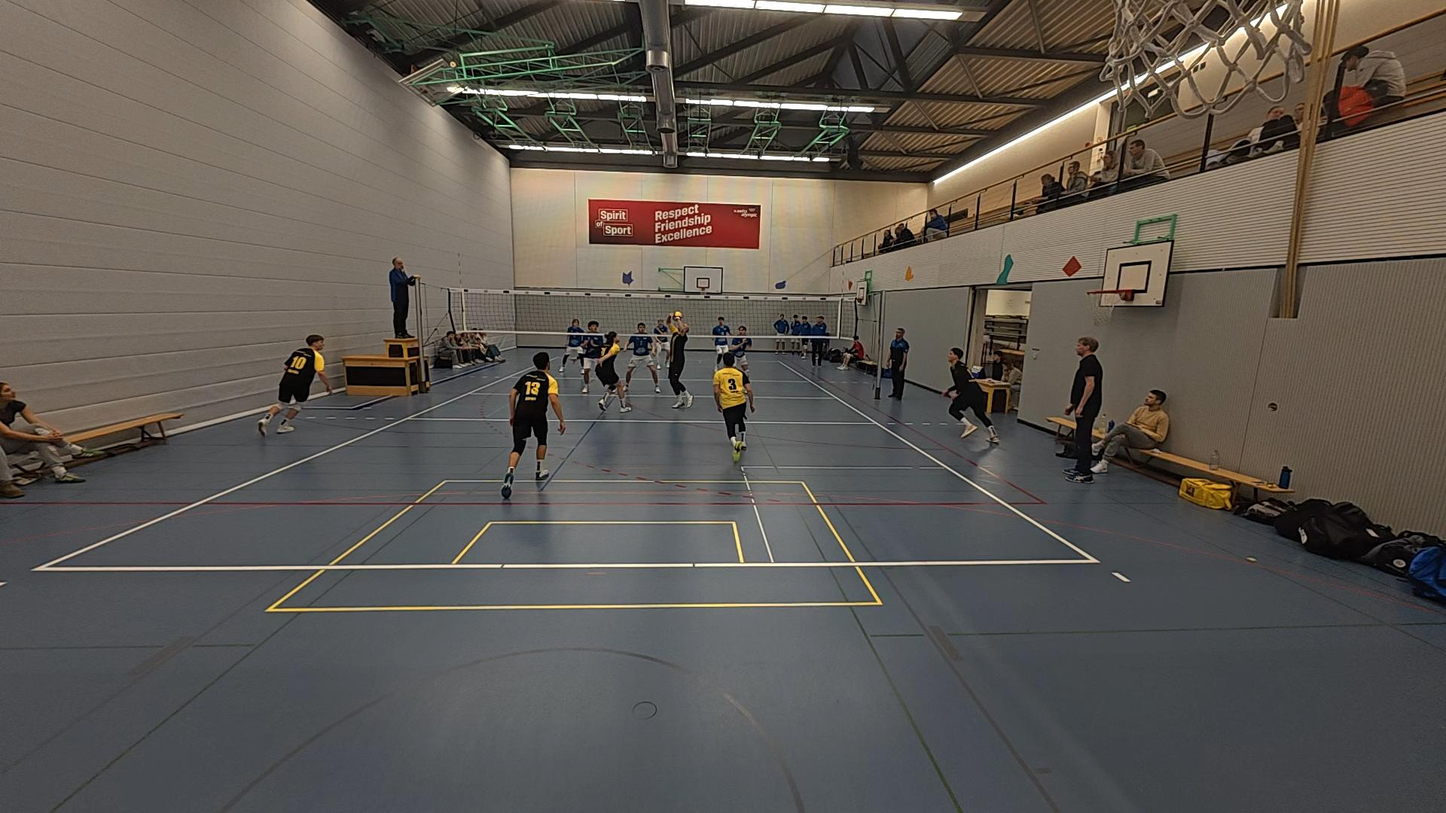Player: (502, 352, 566, 499), (256, 333, 326, 435), (944, 347, 1001, 447), (711, 352, 753, 464), (593, 329, 630, 413), (620, 321, 661, 394), (572, 320, 602, 393), (725, 324, 754, 395), (559, 315, 588, 376), (709, 315, 732, 376), (650, 319, 673, 373)
Set: (660, 311, 694, 405)
ball: (670, 310, 683, 321)
